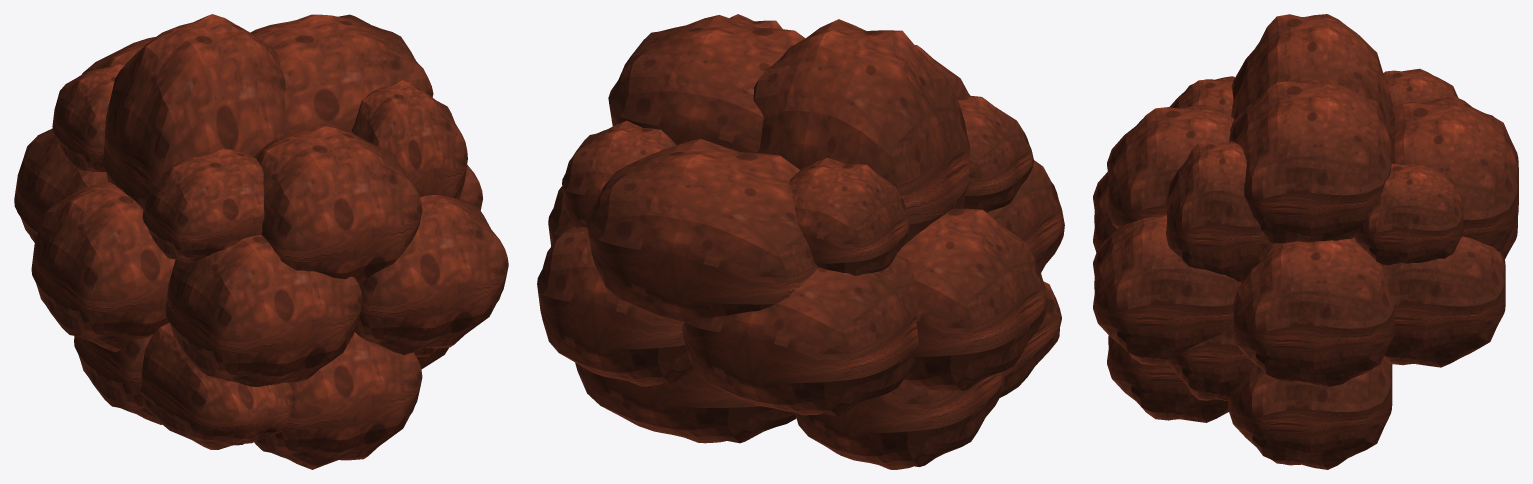
The model's file is FinalePeckishPop.fbx.
The picture shows the model from 3 angles, left to right: view 1: azimuth 30°, elevation 25°; view 2: azimuth 150°, elevation 25°; view 3: azimuth 270°, elevation 25°; orthographic projection. The views are drawn at different scales.
Visible parts, largest first — view 1: Peckish_Head_Closed11, Peckish_Head_Closed7, Peckish_Head_Closed14, Peckish_Head_Closed6, Peckish_Head_Closed8, Peckish_Head_Closed13, Peckish_Head_Closed12, Peckish_Head_Closed15, Peckish_Head_Closed17, Peckish_Head_Closed16, Peckish_Head_Closed19, Peckish_Head_Closed23 (+3 smaller); view 2: Peckish_Head_Closed21, Peckish_Head_Closed11, Peckish_Head_Closed23, Peckish_Head_Closed6, Peckish_Head_Closed12, Peckish_Head_Closed22, Peckish_Head_Closed10, Peckish_Head_Closed19, Peckish_Head_Closed9, Peckish_Head_Closed15, Peckish_Head_Closed20, Peckish_Head_Closed7 (+2 smaller); view 3: Peckish_Head_Closed12, Peckish_Head_Closed5, Peckish_Head_Closed8, Peckish_Head_Closed9, Peckish_Head_Closed22, Peckish_Head_Closed21, Peckish_Head_Closed16, Peckish_Head_Closed11, Peckish_Head_Closed14, Peckish_Head_Closed20, Peckish_Head_Closed13, Peckish_Head_Closed18 (+3 smaller).
Boxes of the visible parts, left/top/right/bottom form: Peckish_Head_Closed11: left=102, top=14, right=285, bottom=209; Peckish_Head_Closed7: left=165, top=235, right=362, bottom=386; Peckish_Head_Closed14: left=254, top=126, right=422, bottom=284; Peckish_Head_Closed6: left=31, top=182, right=175, bottom=351; Peckish_Head_Closed8: left=355, top=195, right=508, bottom=355; Peckish_Head_Closed13: left=254, top=332, right=422, bottom=469; Peckish_Head_Closed12: left=250, top=14, right=433, bottom=134; Peckish_Head_Closed15: left=142, top=149, right=264, bottom=263; Peckish_Head_Closed17: left=140, top=322, right=295, bottom=449; Peckish_Head_Closed16: left=351, top=80, right=467, bottom=198; Peckish_Head_Closed19: left=52, top=64, right=124, bottom=171; Peckish_Head_Closed23: left=14, top=128, right=108, bottom=242; Peckish_Head_Closed21: left=586, top=139, right=818, bottom=326; Peckish_Head_Closed11: left=753, top=19, right=970, bottom=246; Peckish_Head_Closed23: left=681, top=253, right=918, bottom=416; Peckish_Head_Closed6: left=897, top=208, right=1047, bottom=391; Peckish_Head_Closed12: left=608, top=15, right=805, bottom=152; Peckish_Head_Closed22: left=537, top=221, right=693, bottom=386; Peckish_Head_Closed10: left=795, top=371, right=1004, bottom=469; Peckish_Head_Closed19: left=789, top=157, right=910, bottom=275; Peckish_Head_Closed9: left=575, top=362, right=796, bottom=443; Peckish_Head_Closed15: left=955, top=94, right=1033, bottom=212; Peckish_Head_Closed20: left=562, top=120, right=676, bottom=227; Peckish_Head_Closed7: left=987, top=160, right=1064, bottom=272; Peckish_Head_Closed12: left=1229, top=78, right=1392, bottom=243; Peckish_Head_Closed5: left=1231, top=237, right=1395, bottom=386; Peckish_Head_Closed8: left=1093, top=215, right=1241, bottom=365; Peckish_Head_Closed9: left=1228, top=358, right=1392, bottom=469; Peckish_Head_Closed22: left=1381, top=236, right=1505, bottom=367; Peckish_Head_Closed21: left=1389, top=96, right=1518, bottom=251; Peckish_Head_Closed16: left=1166, top=141, right=1273, bottom=282; Peckish_Head_Closed11: left=1231, top=14, right=1392, bottom=127; Peckish_Head_Closed14: left=1107, top=104, right=1234, bottom=229; Peckish_Head_Closed20: left=1354, top=162, right=1463, bottom=265; Peckish_Head_Closed13: left=1107, top=335, right=1228, bottom=422; Peckish_Head_Closed18: left=1169, top=324, right=1255, bottom=400.
Bounding box in the file's own units: 6.74 × 6.34 × 6.64.
